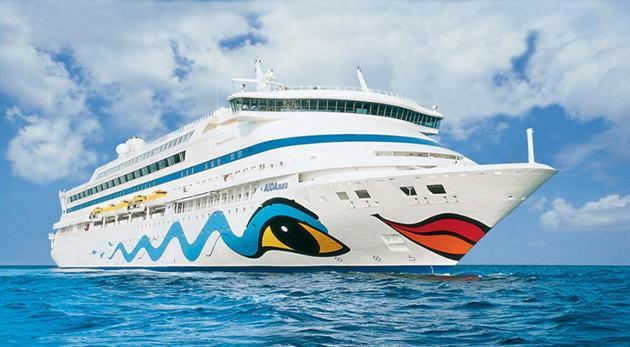youlun: (47, 51, 559, 270)
